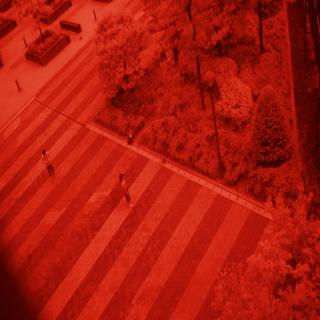person: (111, 167, 137, 216), (32, 141, 57, 183)
